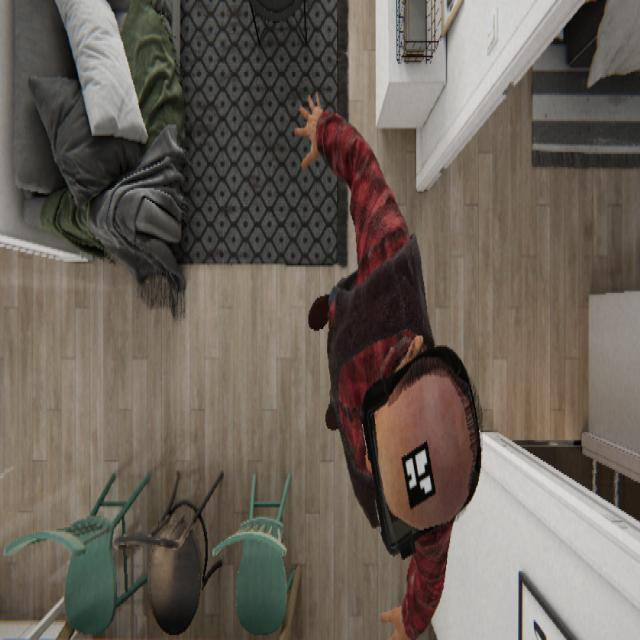AruCO: (400, 437, 436, 509)
Human: (292, 88, 482, 637)
